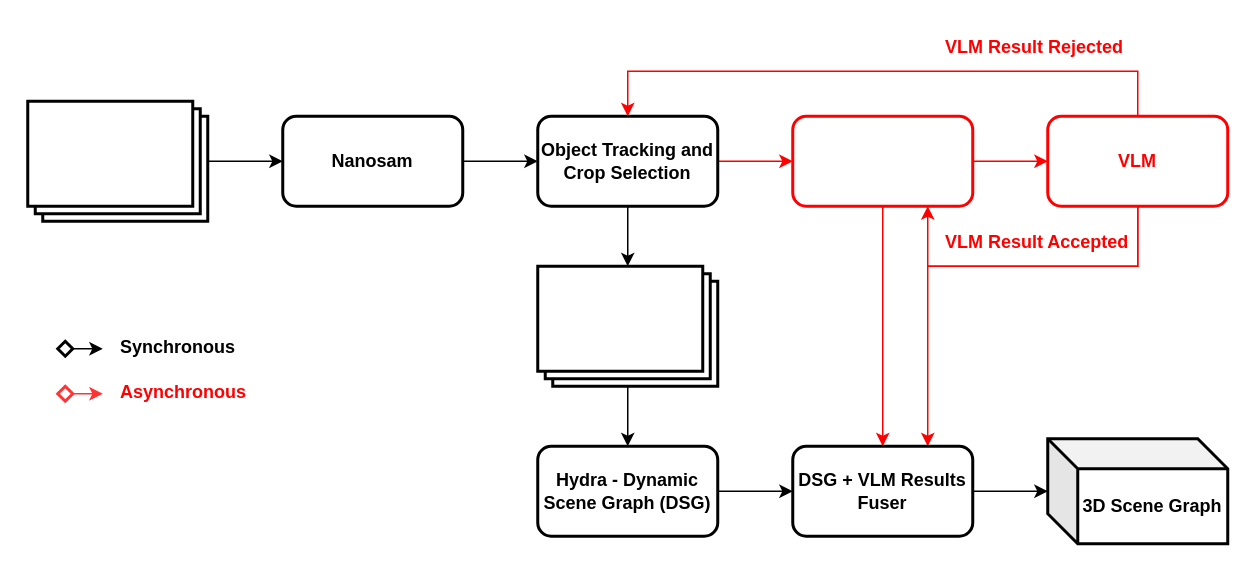
The diagram is 1254 pixels wide and 570 high, and some of its shapes have lost their labels. The box of each missing label's shape, as (x1, y1, x2, y2) in pixels:
Retrieval-Augmented Perception (RAP): (790, 114, 974, 207)
RGB + D + Odometry: (26, 99, 208, 222)
RGB + D + Odometry + Semantic Pixel Map: (536, 264, 718, 387)
